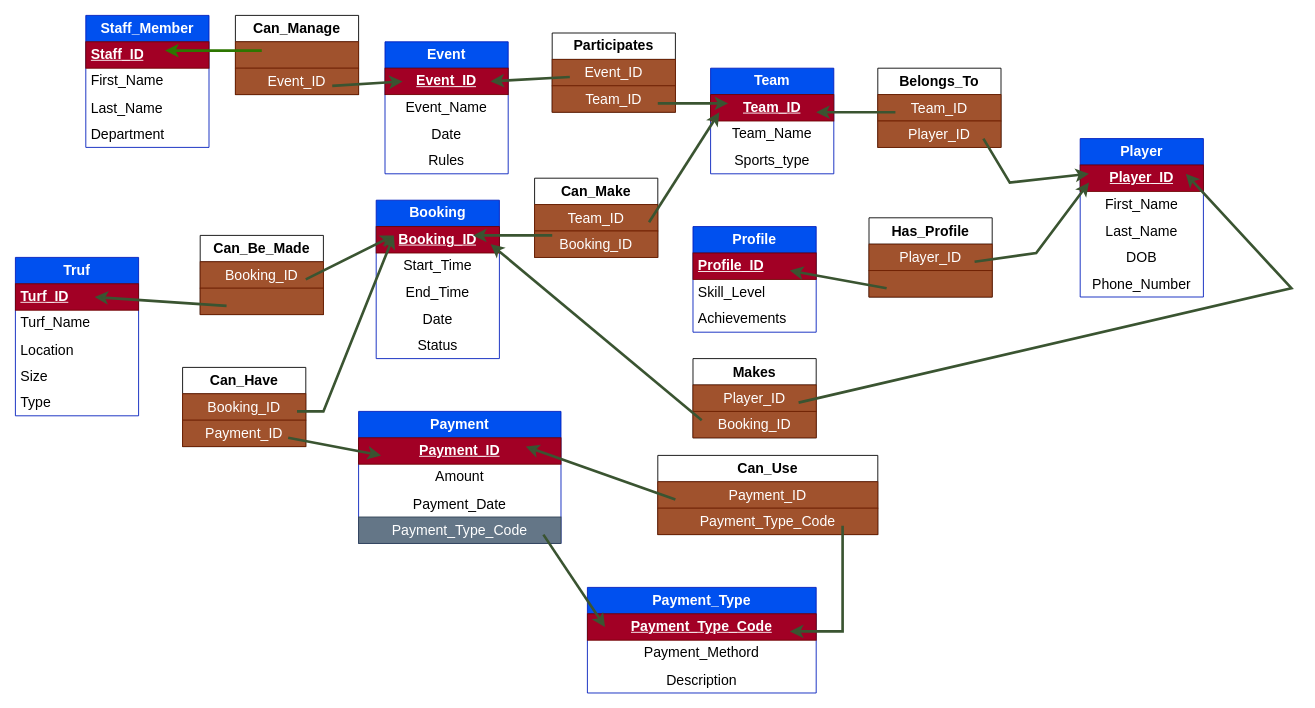
Some shapes in this 1315 by 708 pixel diagram are drawn without their labels. Here are the shapes that lost their labels. From the top down, the centre of each, then its label:
[297,54]: Staff_ID
[261,301]: Turf_ID
[930,283]: Profile_ID
